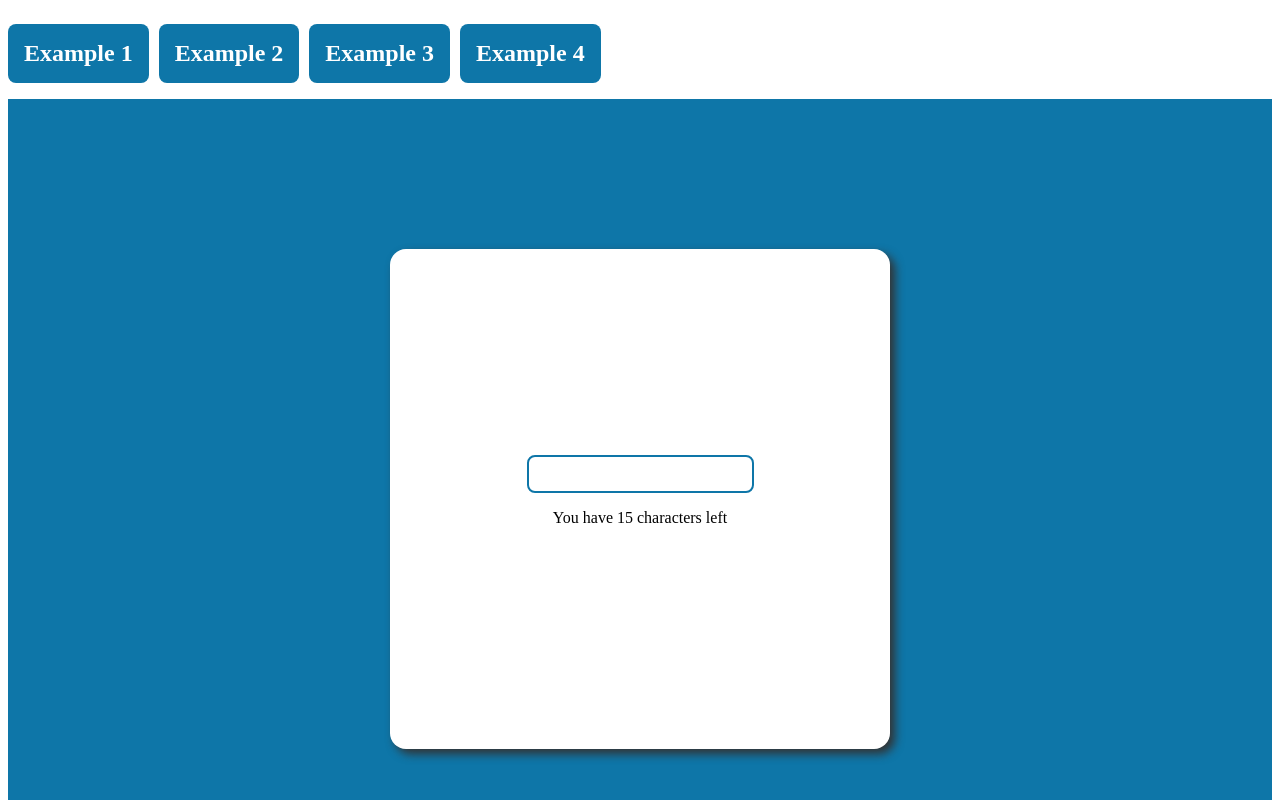
it: Text box with max characters › Displays appropriate remaining characters cout
The width and height of the screenshot is (1280, 800).
Expected: the text "15" is shown, [617,509,633,526]
In the field: (641, 474) [527,455,754,493], type "hello"
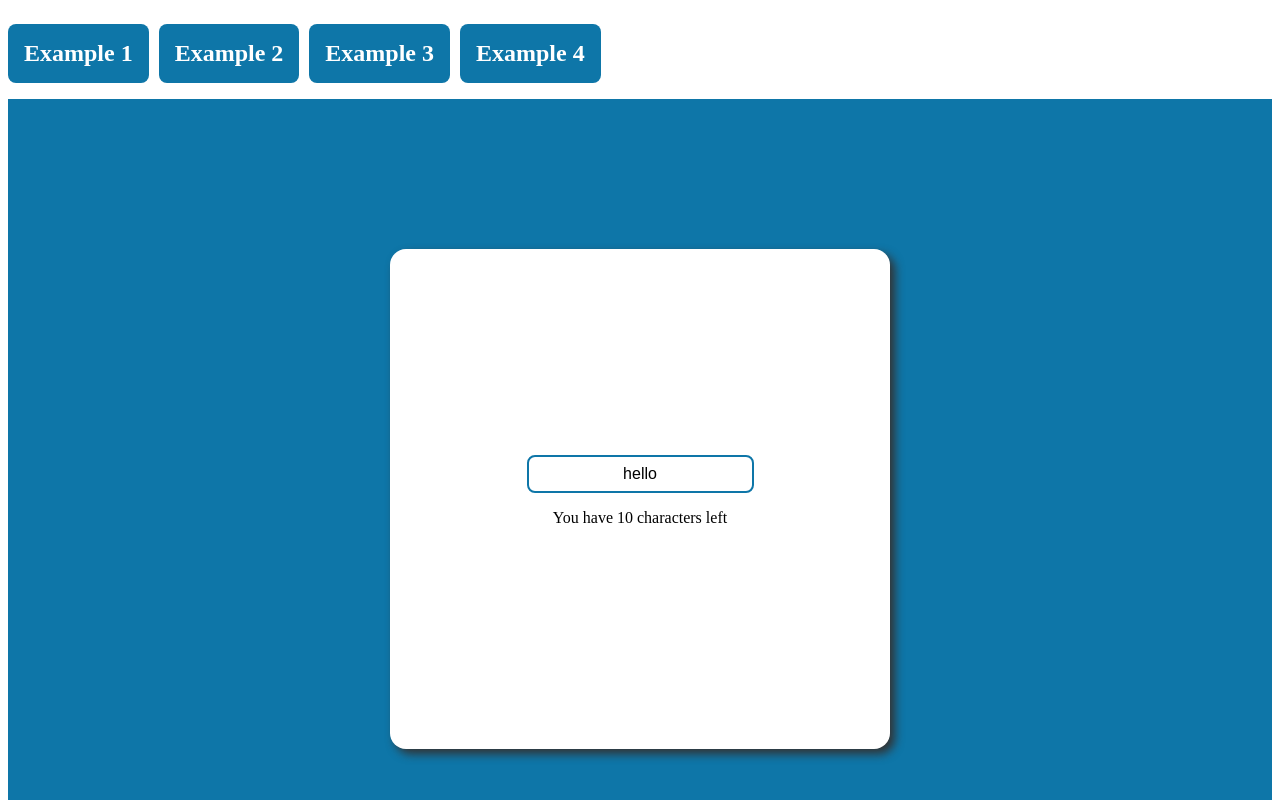
Result: the text "10" is shown at [617,509,633,526]
In the field: (641, 474) [527,455,754,493], type " my friend"
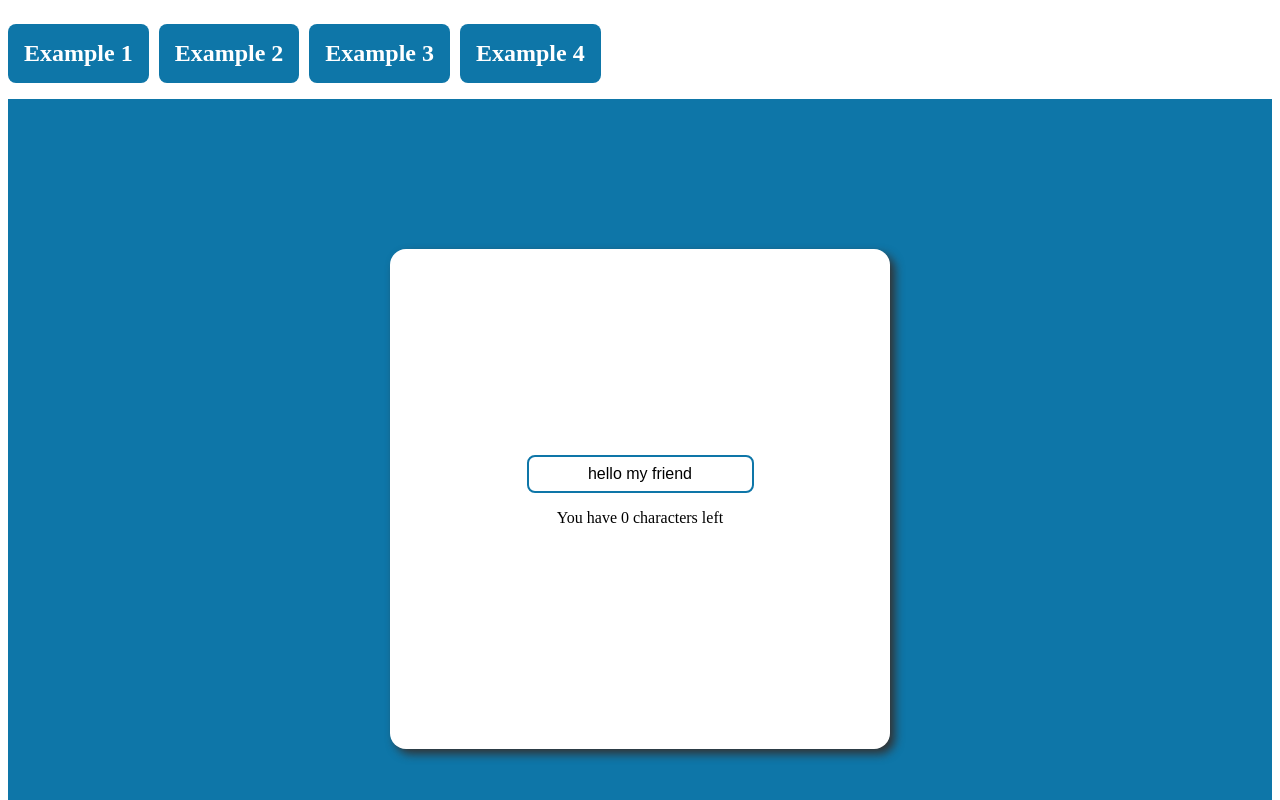
Result: the text "0" is shown at [621,509,629,526]
